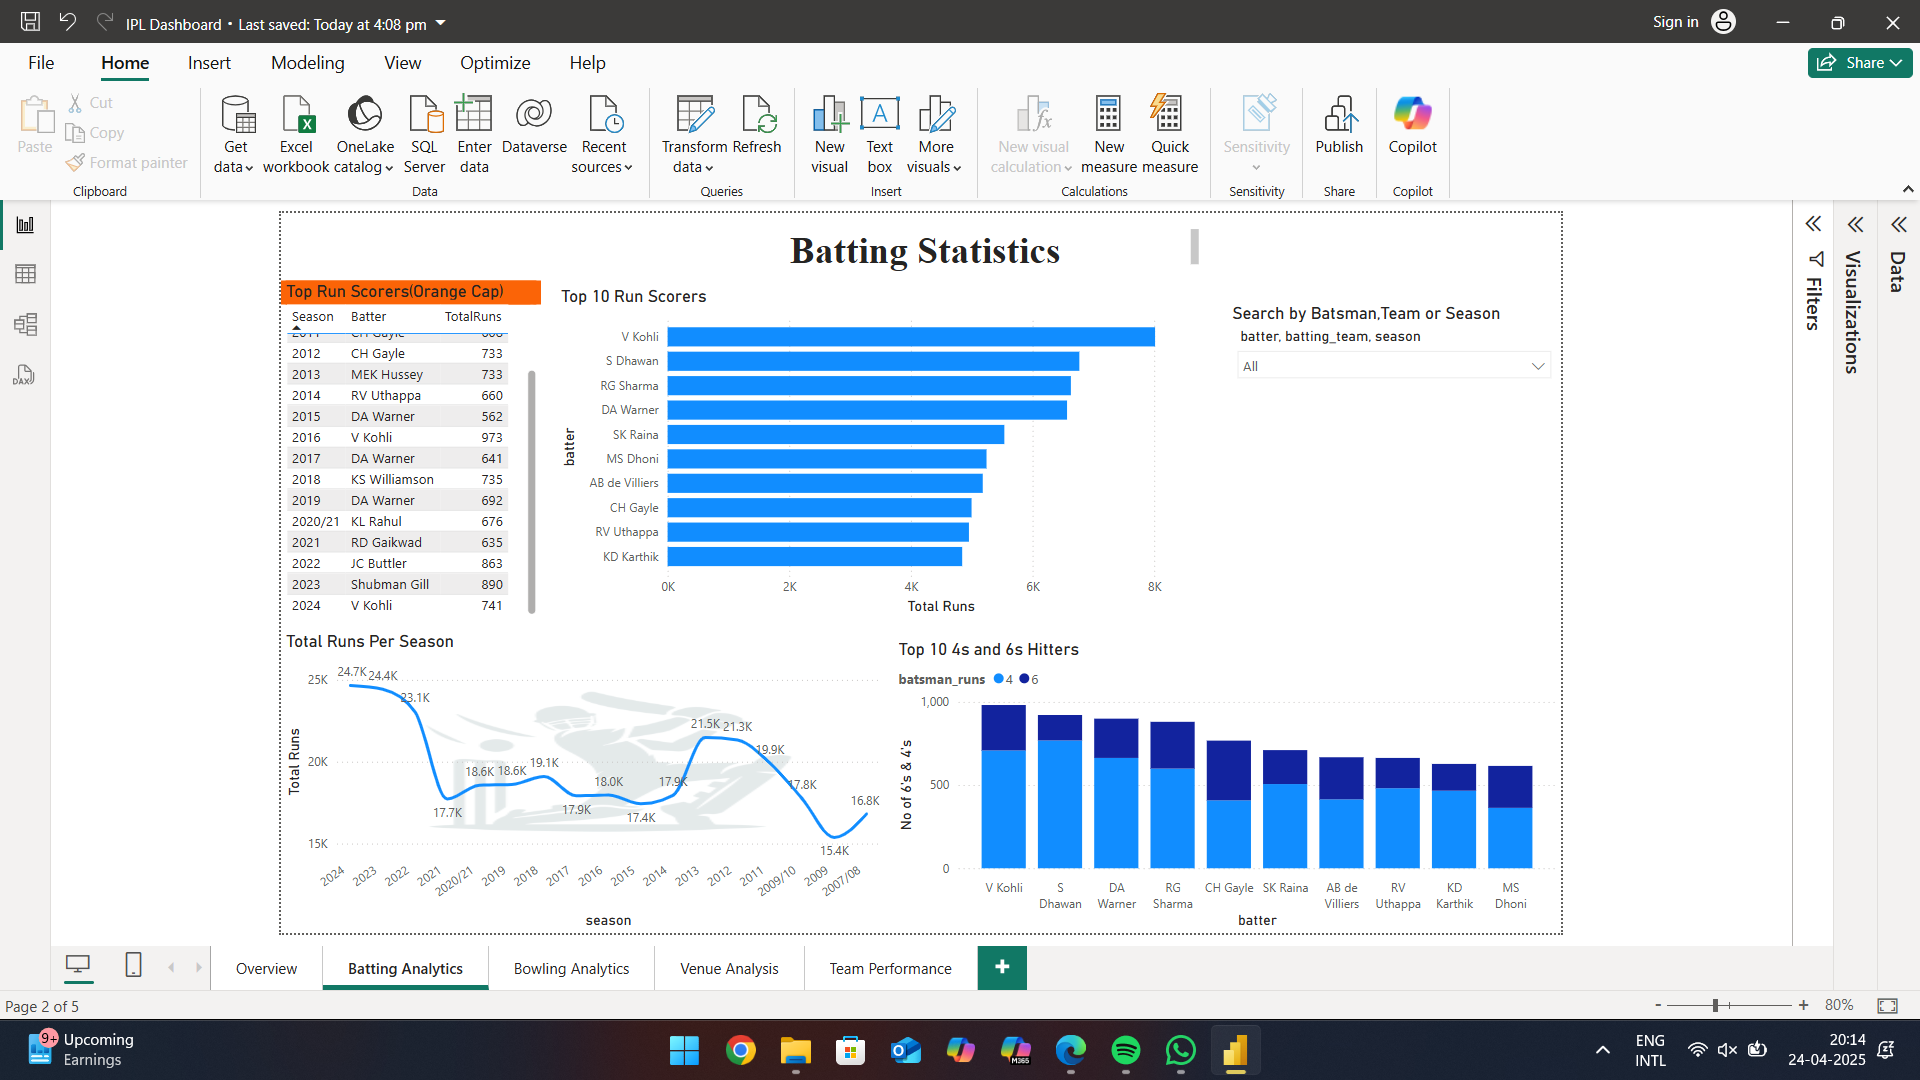

What the dashboard file says about the page in this screenshot:
{"tool":"powerbi","page":{"name":"Batting Analytics","canvas":[1280,720],"ordinal":1},"visuals":[{"type":"barChart","title":"Top 10 Run Scorers","fields":{"Category":["deliveries.batter"],"Y":["deliveries.batsman_runs"]},"box":[275,72.5,671.2,333.8],"z":0},{"type":"columnChart","title":"Top 10 4s and 6s Hitters","fields":{"Category":["deliveries.batter"],"Y":["deliveries.batsman_runs"],"Series":["deliveries.batsman_runs"]},"box":[612.5,426.2,667.5,293.8],"z":1000},{"type":"lineChart","title":"Total Runs Per Season","fields":{"Category":["matches.season"],"Y":["deliveries.batsman_runs"]},"box":[0,417.5,603.8,302.5],"z":2000},{"type":"textbox","box":[373.8,11.2,548.8,56.2],"z":4000},{"type":"tableEx","title":"Top Run Scorers(Orange Cap)","fields":{"Values":["SeasonBatsmanRuns.season","SeasonBatsmanRuns.batter","SeasonBatsmanRuns.TotalRuns"]},"box":[0,67.5,260,338.8],"z":5000},{"type":"slicer","title":"Search by Batsman,Team or Season","fields":{"Values":["deliveries.batter","deliveries.batting_team","matches.season"]},"box":[946.2,90,333.8,242.5],"z":6000}]}

Visuals, with their boxes on the page's 1280x720 design canvas (x1, y1, x2, y2). These are canvas units, not pixel positions in the 1920x1080 screenshot, which may show the page scaled, cropped or inside an application window:
"Top 10 Run Scorers" barChart: x1=275 y1=72 x2=946 y2=406
"Top 10 4s and 6s Hitters" columnChart: x1=612 y1=426 x2=1280 y2=720
"Total Runs Per Season" lineChart: x1=0 y1=418 x2=604 y2=720
textbox: x1=374 y1=11 x2=923 y2=67
"Top Run Scorers(Orange Cap)" tableEx: x1=0 y1=68 x2=260 y2=406
"Search by Batsman,Team or Season" slicer: x1=946 y1=90 x2=1280 y2=332
